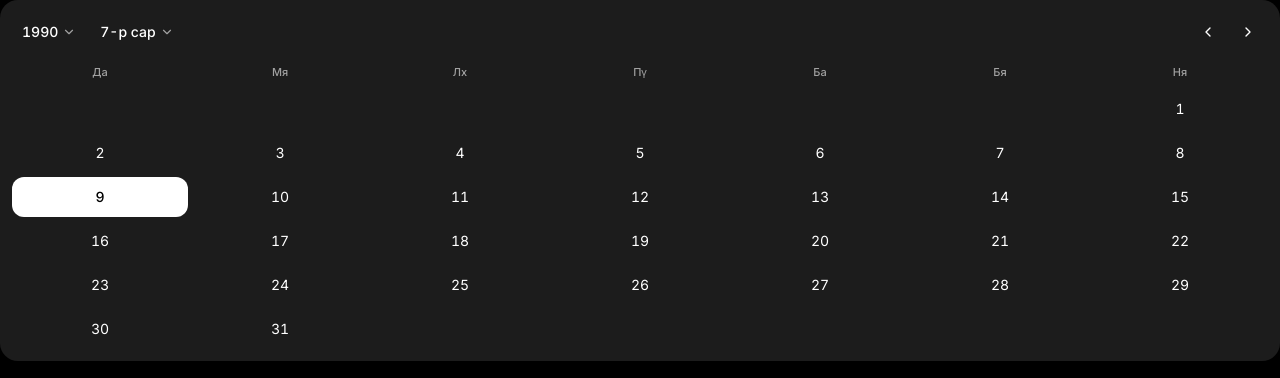
Test: BirthdayPicker › гарчгийн онноос он сонгох руу буцна
What coordinates should you click on to do the following:
click the button "1990"
I would click on:
 (49, 32)
Its box is x1=12 y1=14 x2=86 y2=50.
(page scrolled)
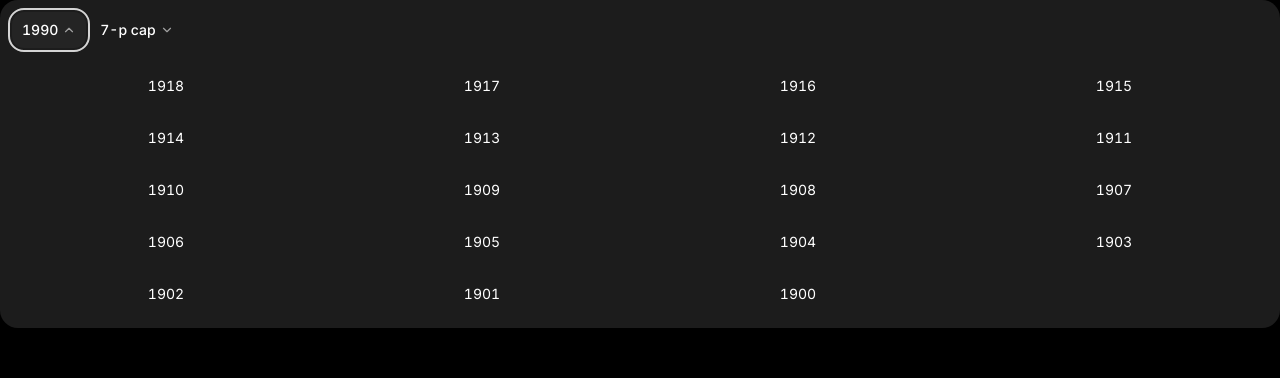
Expected: the button "1900" is shown, x1=644 y1=272 x2=952 y2=316
